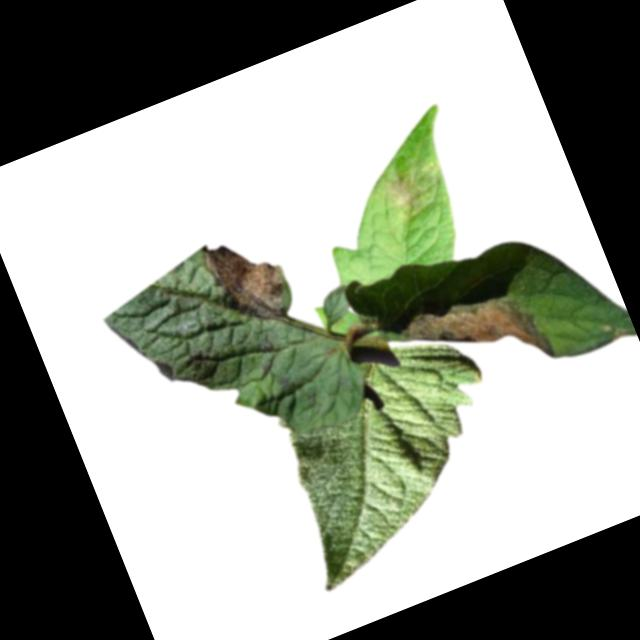Late_blight: (399, 272, 560, 405), (197, 220, 301, 338), (381, 166, 430, 222), (607, 321, 633, 342)
healthy: (250, 318, 535, 593)
